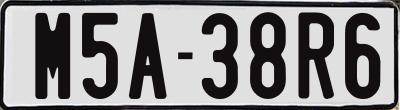3: (199, 10, 237, 99)
5: (82, 10, 123, 101)
6: (345, 12, 380, 100)
8: (248, 11, 284, 104)
A: (127, 11, 166, 101)
M: (34, 12, 74, 103)
R: (297, 9, 335, 98)
